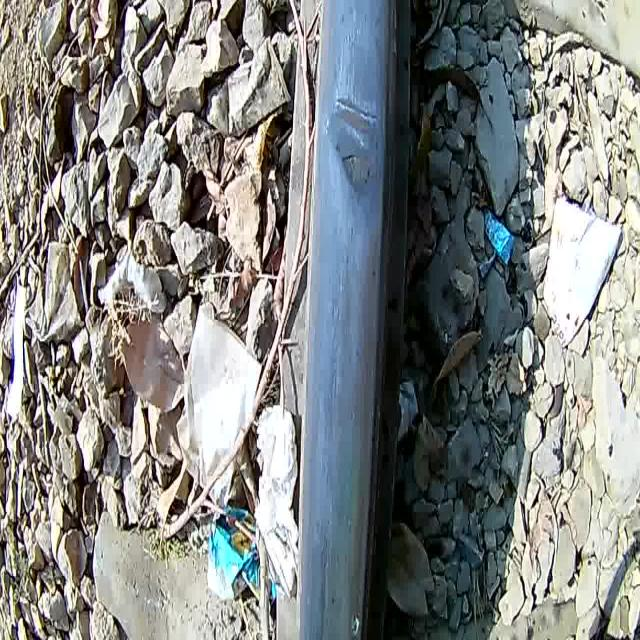Squats: (277, 0, 414, 640)
